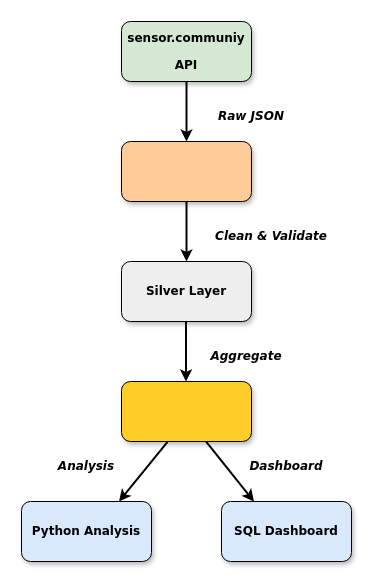
Image size: 375x586. Some labels were removed from this diagram. The shapes that lost their labels are listed below. From the top down, each one's centre as x and y in pixels, then its label:
At pixel 187 172: "Bronze Layer".
At pixel 187 412: "Gold Layer".
